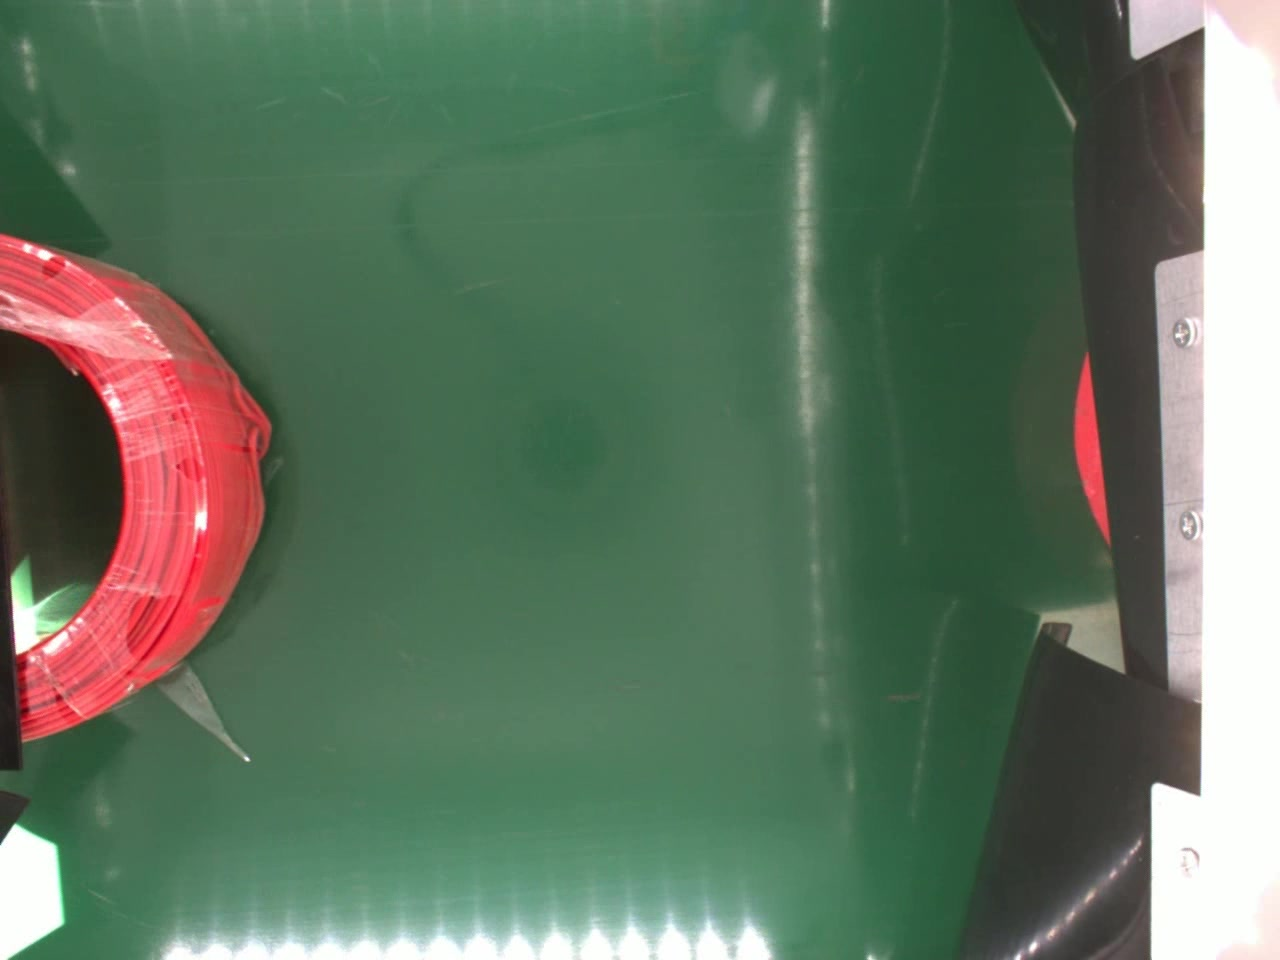red: (0, 229, 267, 740)
